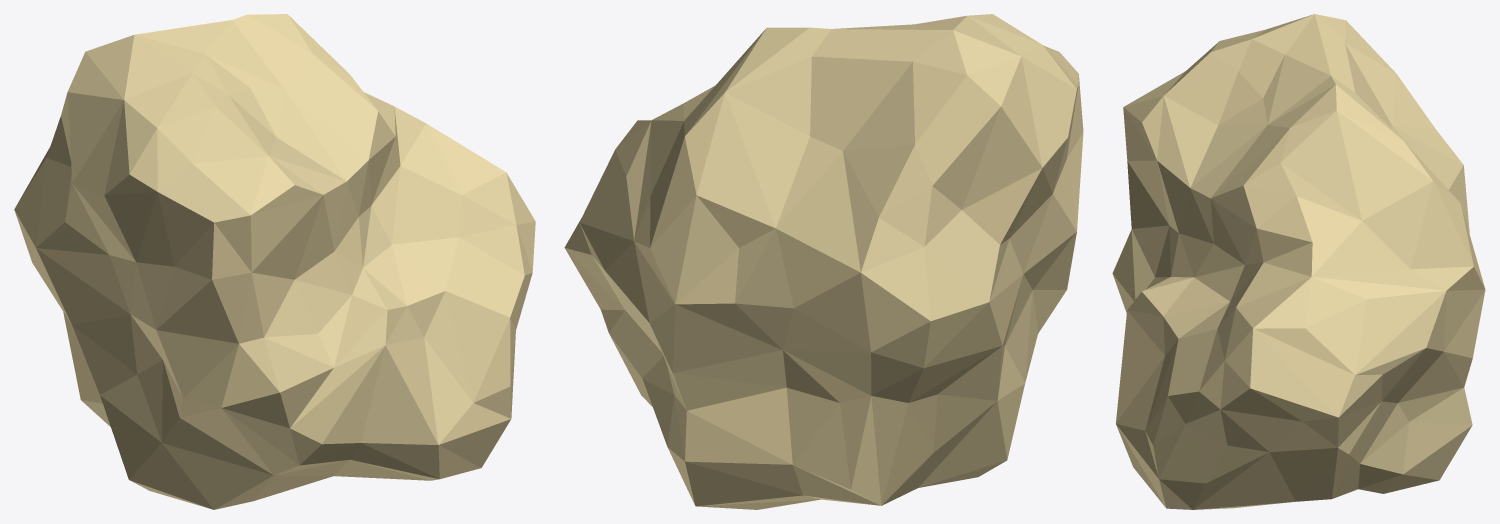
Rendered from Asteroid (65).fbx.
3 renders of one model, left to right at view 1: azimuth 30°, elevation 25°; view 2: azimuth 150°, elevation 25°; view 3: azimuth 270°, elevation 25°, orthographic. The views are drawn at different scales.
Parts seen in each view (by area): view 1: Asteroid144; view 2: Asteroid144; view 3: Asteroid144.
Boxes of the visible parts, box(x1,y1,x2,y2) form: Asteroid144: box(14, 14, 535, 509); Asteroid144: box(564, 14, 1083, 509); Asteroid144: box(1112, 14, 1485, 509).
Bounding box in the file's own units: 213 × 214 × 179.
